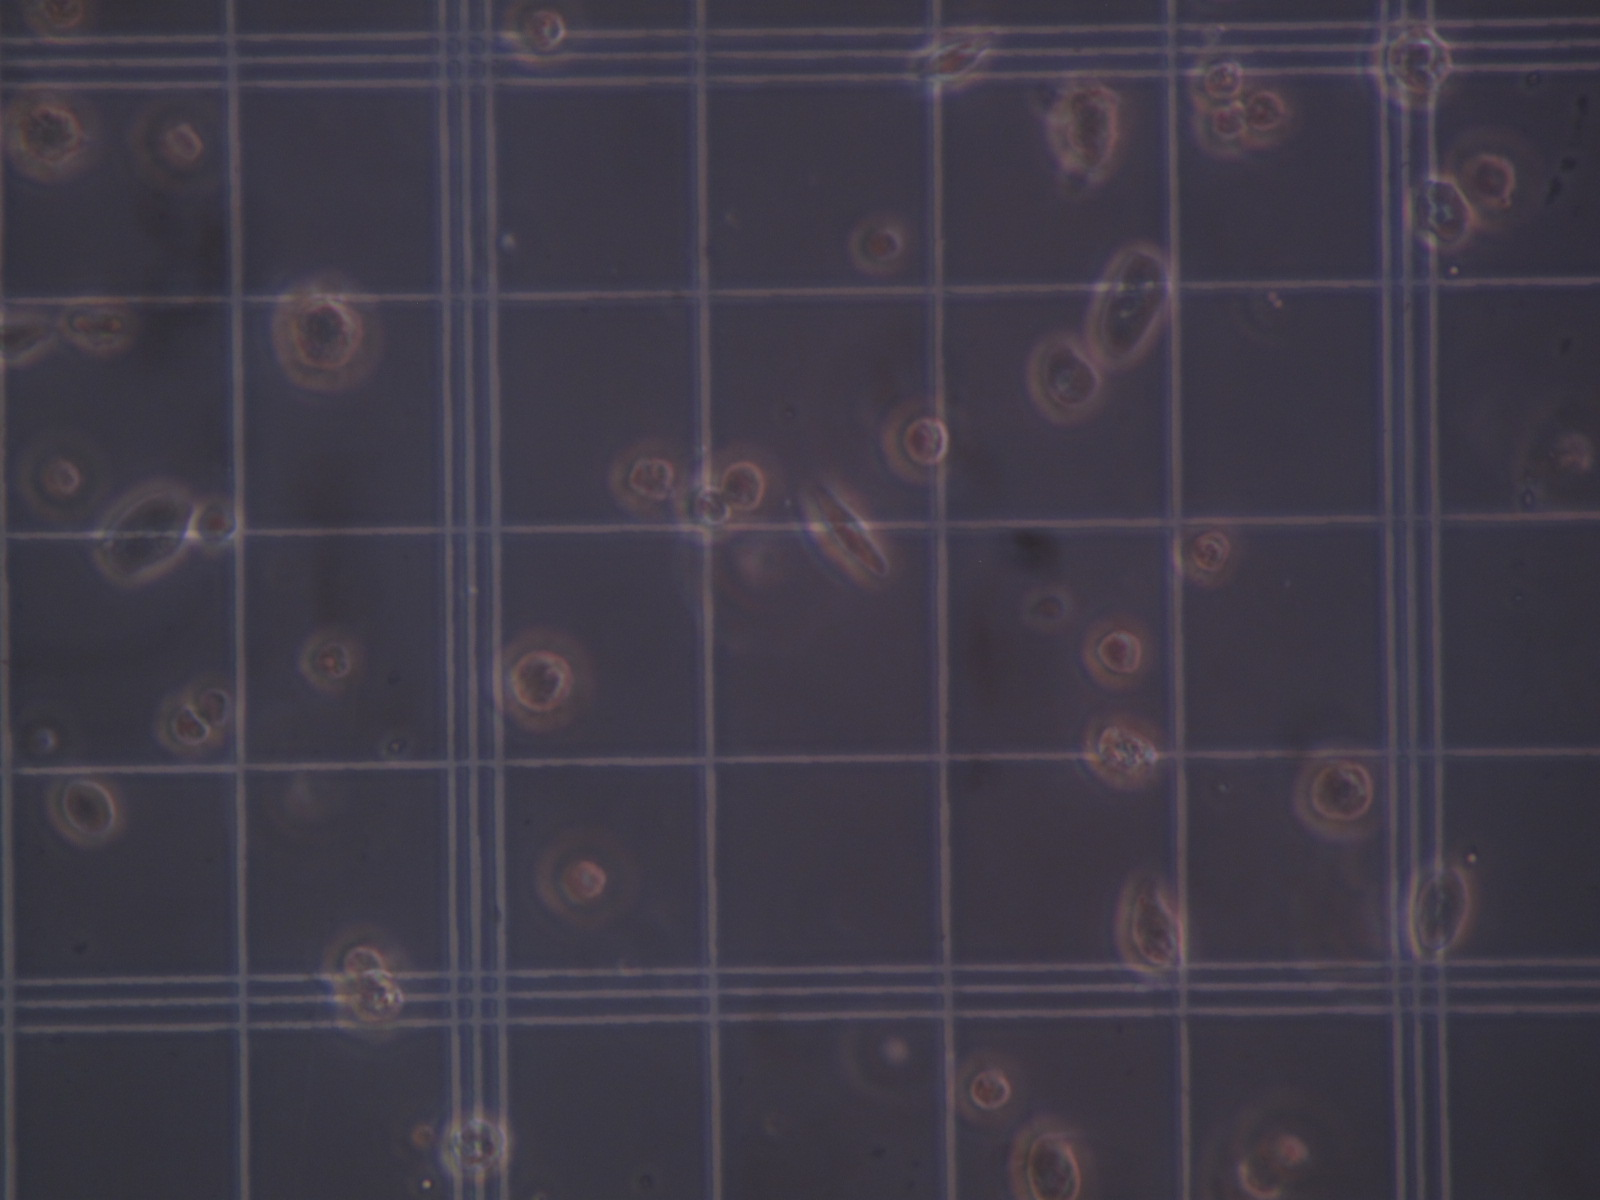hemo: (272, 271, 382, 389), (795, 470, 894, 591), (1082, 245, 1173, 374), (490, 625, 590, 734), (92, 483, 195, 585), (1293, 744, 1378, 841), (1044, 79, 1121, 184), (3, 91, 91, 180), (533, 826, 610, 926), (1443, 134, 1518, 234), (1026, 333, 1107, 424), (1372, 21, 1453, 113), (1115, 872, 1187, 974), (1009, 1118, 1099, 1200), (1078, 708, 1162, 793), (127, 101, 204, 192), (1406, 862, 1471, 962), (1400, 173, 1474, 253), (16, 434, 84, 521), (881, 400, 951, 483), (713, 442, 784, 524), (911, 28, 995, 95), (610, 434, 680, 513), (45, 776, 125, 847), (1080, 615, 1151, 689), (500, 1, 577, 71), (334, 976, 411, 1044), (1170, 517, 1243, 587), (442, 1112, 511, 1182), (957, 1050, 1026, 1122), (60, 297, 139, 354), (319, 923, 388, 984), (297, 626, 362, 689), (673, 483, 736, 542), (157, 695, 220, 754), (1183, 55, 1246, 112), (848, 216, 901, 275), (1192, 105, 1249, 158), (193, 494, 241, 556), (183, 673, 234, 730), (1243, 86, 1293, 145), (1, 310, 53, 366), (21, 1, 89, 42)
